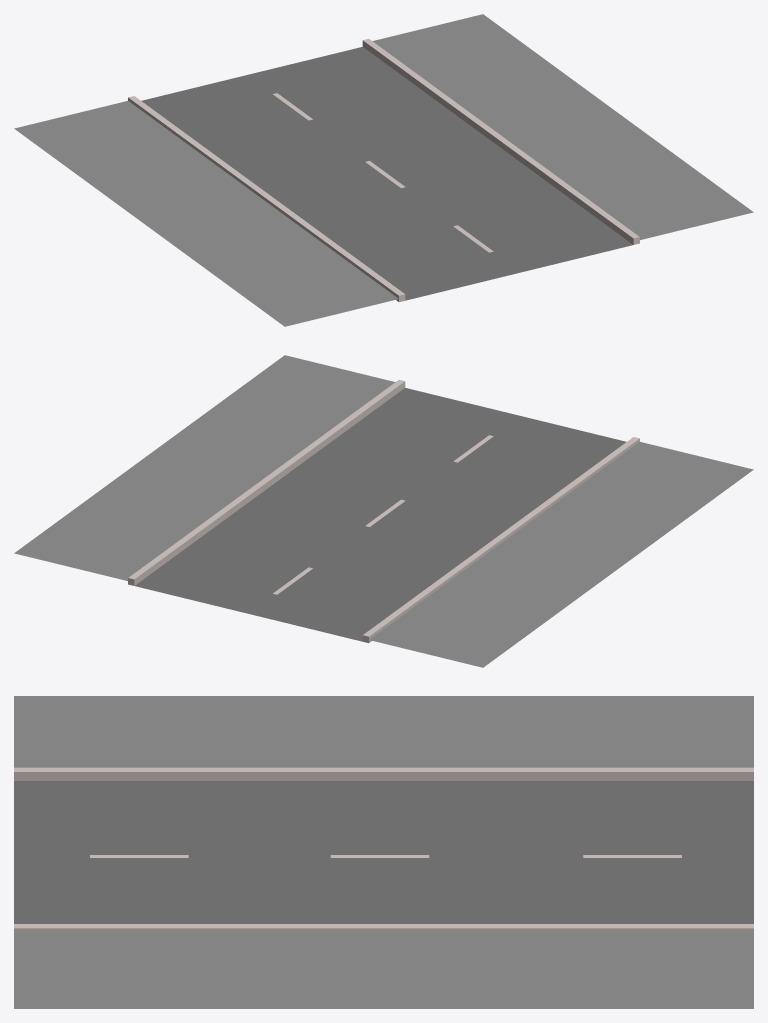
Rendered from road_009.fbx.
3 views of the same model, one above another, from view 1: azimuth 30°, elevation 25°; view 2: azimuth 150°, elevation 25°; view 3: azimuth 270°, elevation 25° (orthographic). The views are drawn at different scales.
Parts seen in each view (by area): view 1: road_009; view 2: road_009; view 3: road_009.
Boxes of the visible parts, x1,y1,x2,y2 form: road_009: (14,14,753,326); road_009: (14,355,753,667); road_009: (14,696,753,1008).
Size of the model in its own units: 1500 by 20 by 1500.
